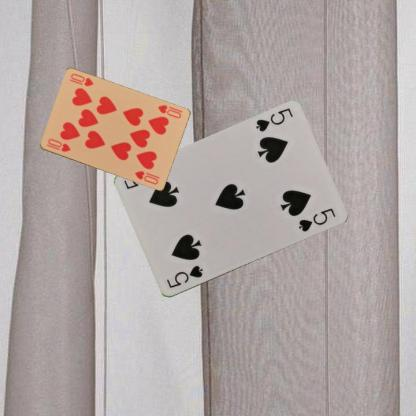10h: (155, 102, 182, 120), (44, 136, 72, 153)
5s: (253, 106, 294, 133), (163, 263, 204, 289)
